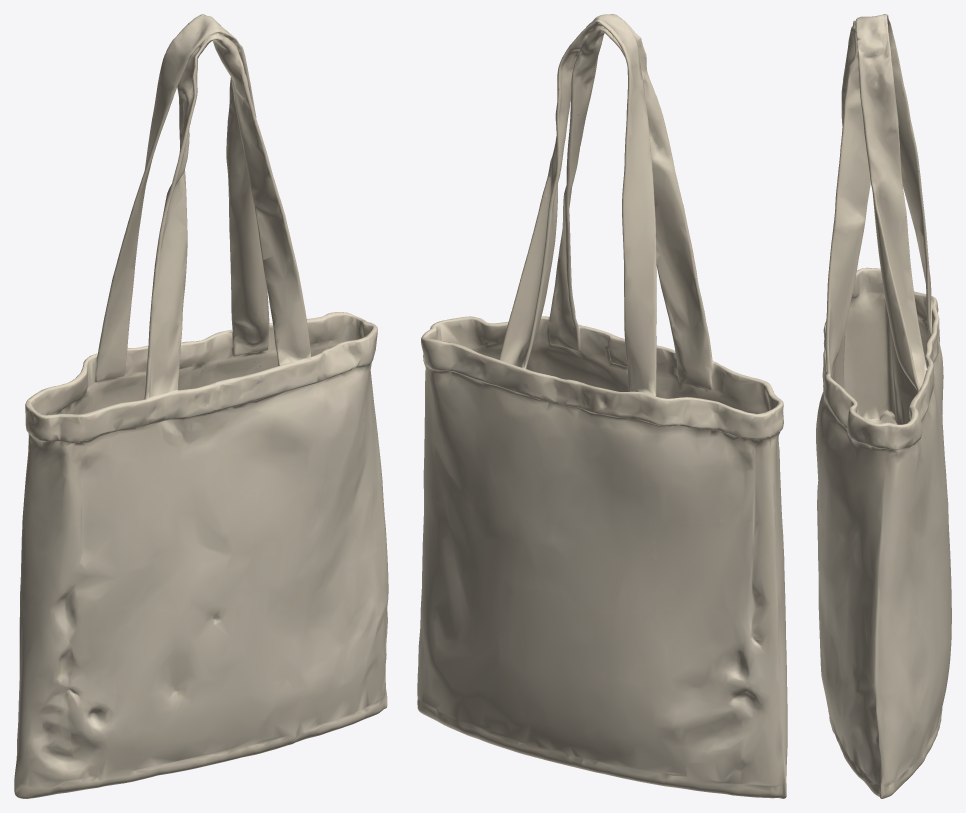
3 views of the same model, side by side, from view 1: azimuth 30°, elevation 25°; view 2: azimuth 150°, elevation 25°; view 3: azimuth 270°, elevation 25° (orthographic). The views are drawn at different scales.
Visible parts, largest first — view 1: tripo_node_f314a349-e5a0-4c9c-b1da-c7039dcf7fca; view 2: tripo_node_f314a349-e5a0-4c9c-b1da-c7039dcf7fca; view 3: tripo_node_f314a349-e5a0-4c9c-b1da-c7039dcf7fca.
Part boxes in pixels (bbox=[...]): tripo_node_f314a349-e5a0-4c9c-b1da-c7039dcf7fca: bbox=[14, 14, 388, 798]; tripo_node_f314a349-e5a0-4c9c-b1da-c7039dcf7fca: bbox=[417, 14, 787, 798]; tripo_node_f314a349-e5a0-4c9c-b1da-c7039dcf7fca: bbox=[816, 14, 951, 798].
Size of the model in its own units: 0.5256 by 0.9999 by 0.1756.
Materials: 1 (1 with a texture image).
